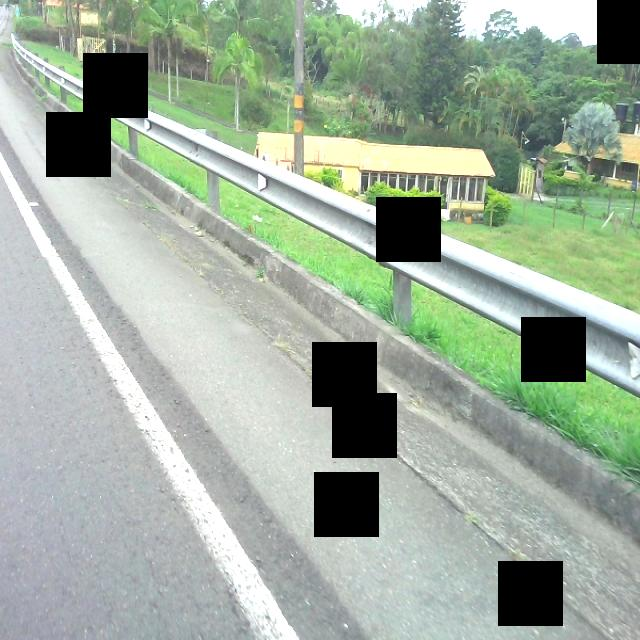DITCH: (1, 31, 638, 639)
